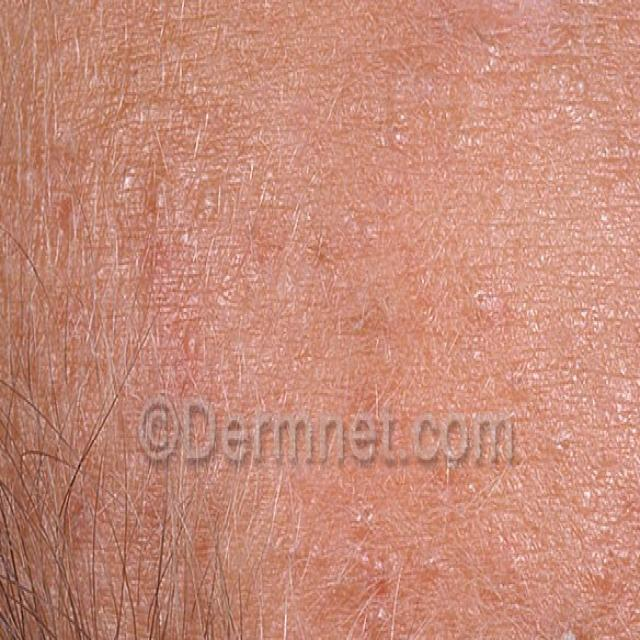Acne: (449, 251, 542, 397), (543, 605, 590, 640)
